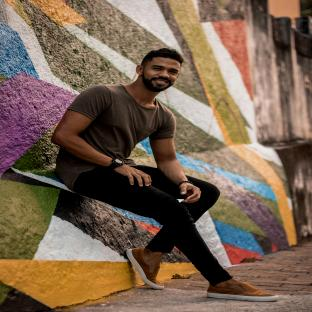Human: (51, 48, 277, 301)
